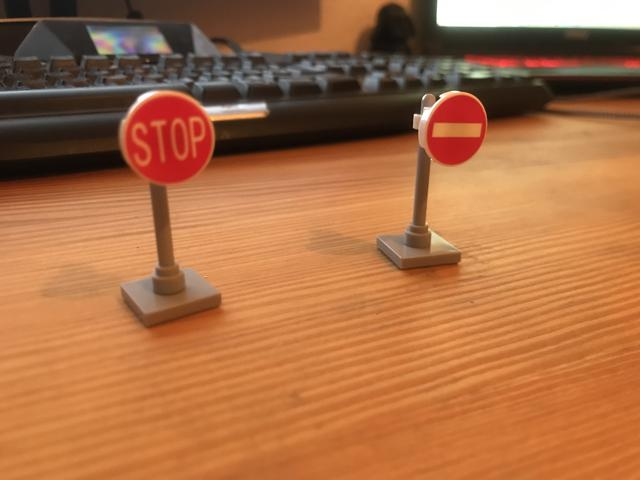stop: (119, 91, 216, 185)
verbot der einfahrt: (423, 91, 487, 166)
